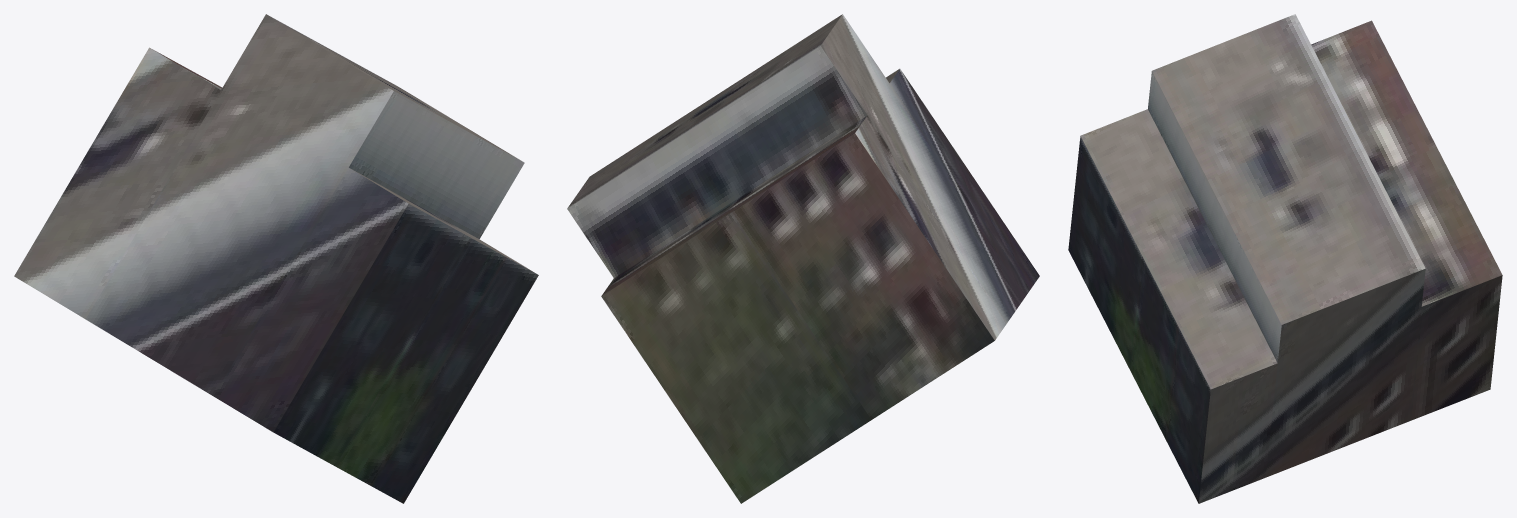
3 views of the same model, side by side, from view 1: azimuth 30°, elevation 25°; view 2: azimuth 150°, elevation 25°; view 3: azimuth 270°, elevation 25° (orthographic). The views are drawn at different scales.
Parts seen in each view (by area): view 1: BAG_0599100000762404 (×2); view 2: BAG_0599100000762404 (×2); view 3: BAG_0599100000762404 (×2).
Part boxes in pixels (box(x1,y1,x2,y2)): BAG_0599100000762404 (×2): box(14, 14, 538, 503); BAG_0599100000762404 (×2): box(567, 14, 1039, 503); BAG_0599100000762404 (×2): box(1068, 14, 1502, 503).
Bounding box in the file's own units: 16.77 × 16.16 × 14.14.
Materials: 3 (2 with a texture image).
